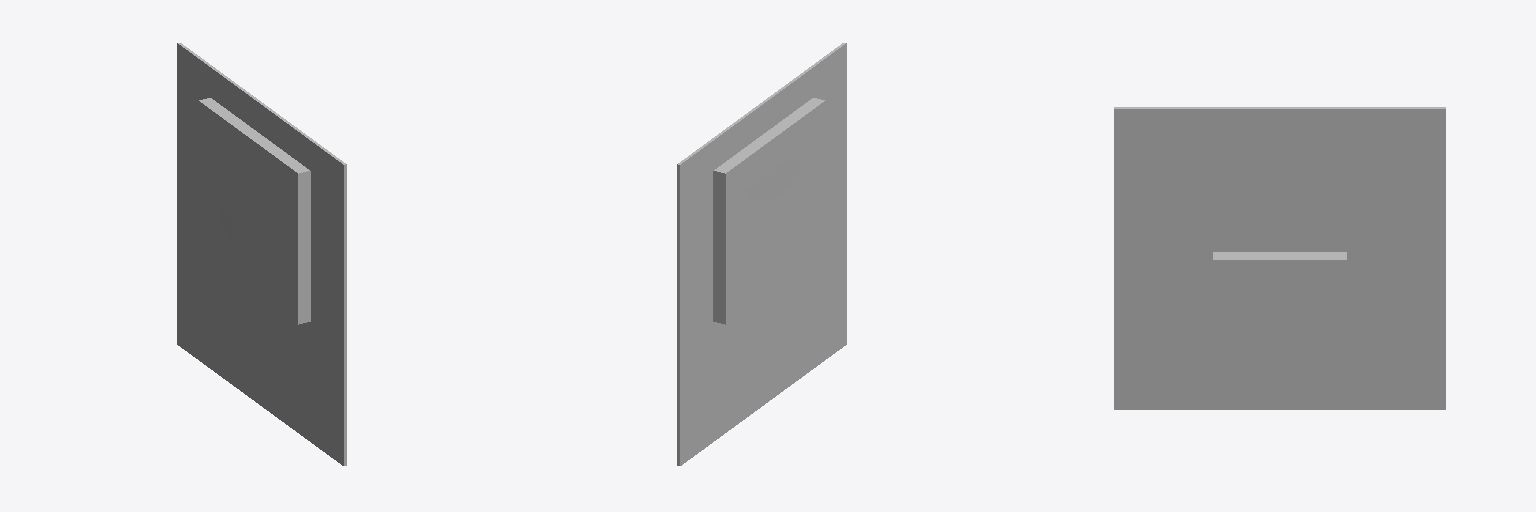
The model's file is 02_Wall_Shelf.obj.
3 views of the same model, side by side, from view 1: azimuth 30°, elevation 25°; view 2: azimuth 150°, elevation 25°; view 3: azimuth 270°, elevation 25° (orthographic).
Parts seen in each view (by area): view 1: polySurface5; view 2: polySurface5; view 3: polySurface5.
Boxes of the visible parts, box(x1,y1,x2,y2) form: polySurface5: box(177, 43, 346, 465); polySurface5: box(677, 43, 846, 465); polySurface5: box(1114, 107, 1445, 409).
Size of the model in its own units: 4.16 by 80 by 80.